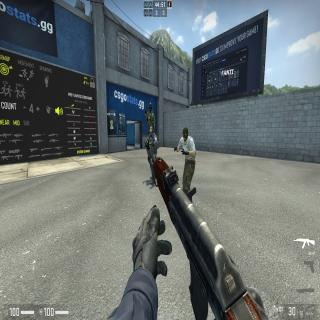CT-Body: (149, 128, 157, 184)
CT-Head: (149, 127, 153, 136)
T-Body: (182, 127, 196, 200)
T-Head: (182, 126, 189, 140)
